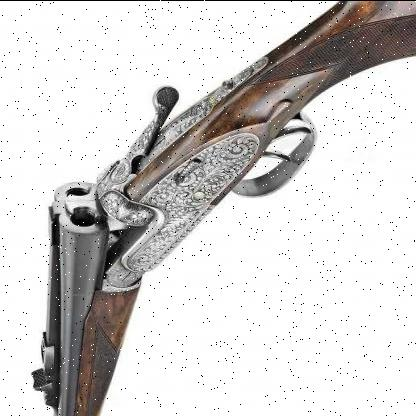rifle: (24, 2, 415, 416)
